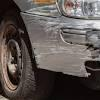front-bumper-dent: (24, 13, 99, 77)
